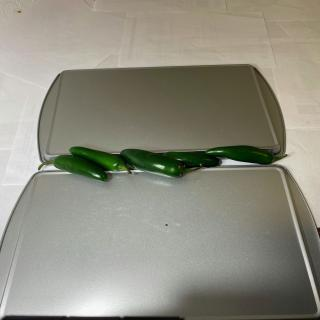Chilli: (120, 148, 203, 178), (68, 146, 132, 174), (205, 144, 288, 164), (162, 151, 220, 167)
